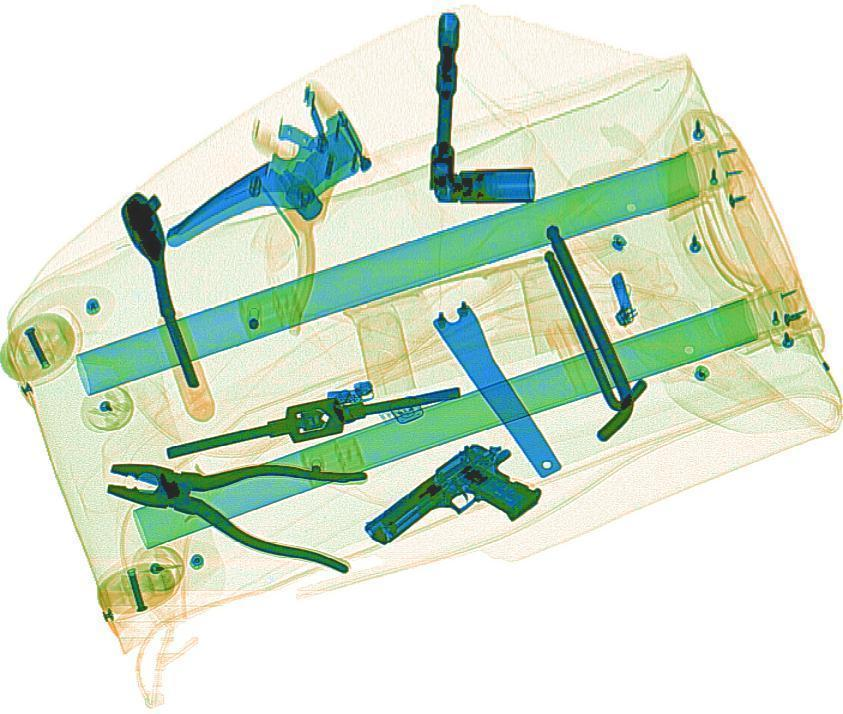Gun: (357, 428, 556, 584)
Pliers: (93, 429, 378, 573)
